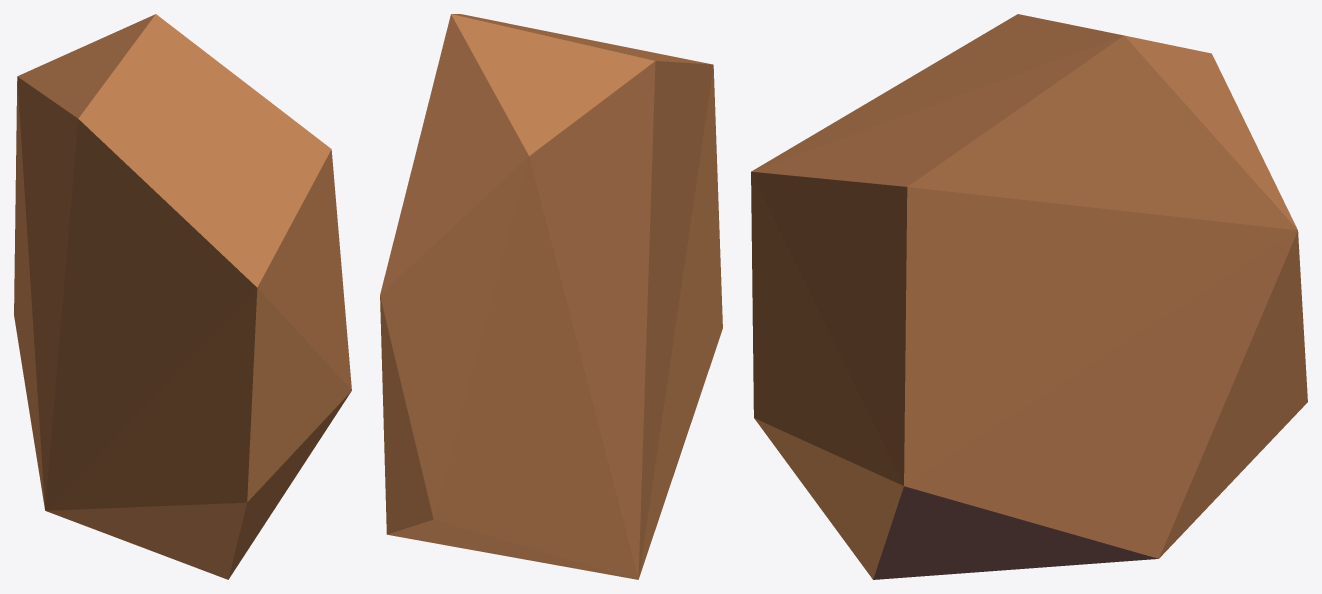
File: Willow_Autumn_1.lod4.glb
3 views of the same model, side by side, from view 1: azimuth 30°, elevation 25°; view 2: azimuth 150°, elevation 25°; view 3: azimuth 270°, elevation 25° (orthographic). The views are drawn at different scales.
Parts seen in each view (by area): view 1: Willow_Autumn_1; view 2: Willow_Autumn_1; view 3: Willow_Autumn_1.
Boxes of the visible parts, x1,y1,x2,y2 form: Willow_Autumn_1: (14, 14, 351, 579); Willow_Autumn_1: (380, 14, 722, 579); Willow_Autumn_1: (751, 14, 1307, 579).
Bounding box in the file's own units: 1.5 × 2.92 × 2.61.
